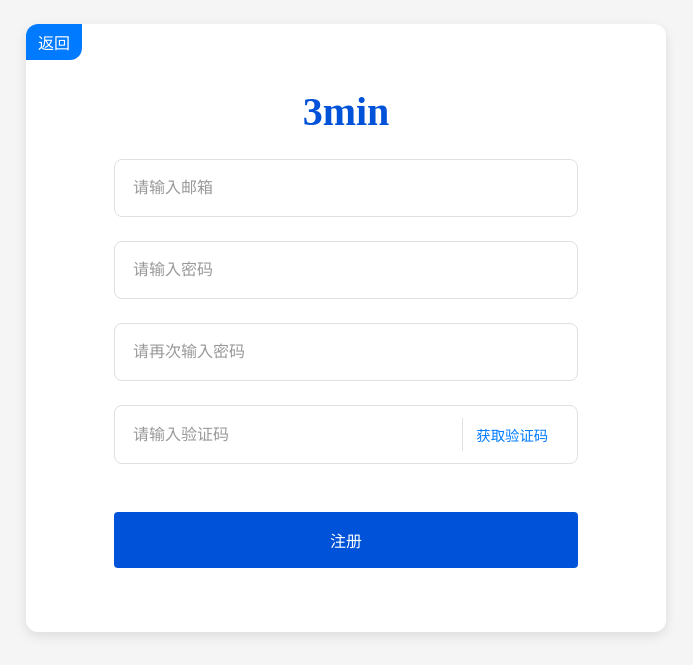
Register Page › 删除确认密码内容时应显示错误提示
The image size is (693, 665).
Type "123456" into the password field with placeholder "请再次输入密码" at point(346, 352), box [131,342,561,362]
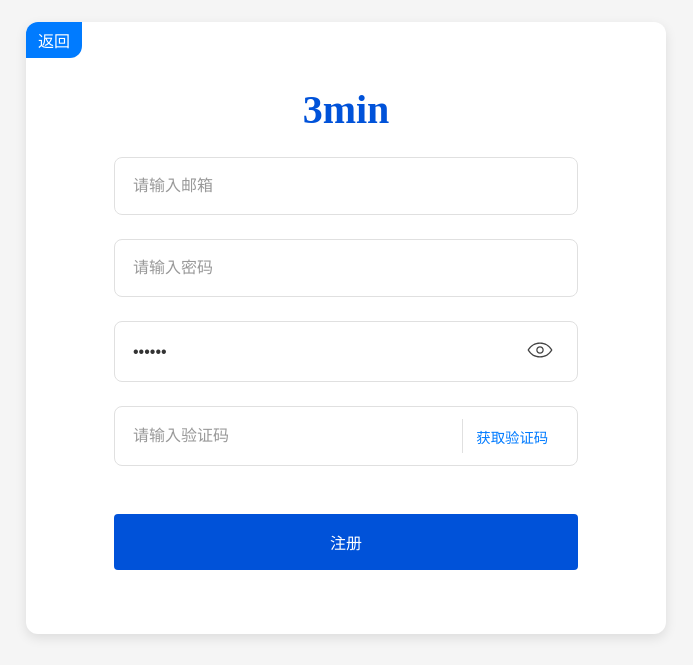
Expected: the text "请确认密码" is not shown
Clear the password field with placeholder "请再次输入密码" at point(325, 352), box [131,342,519,362]
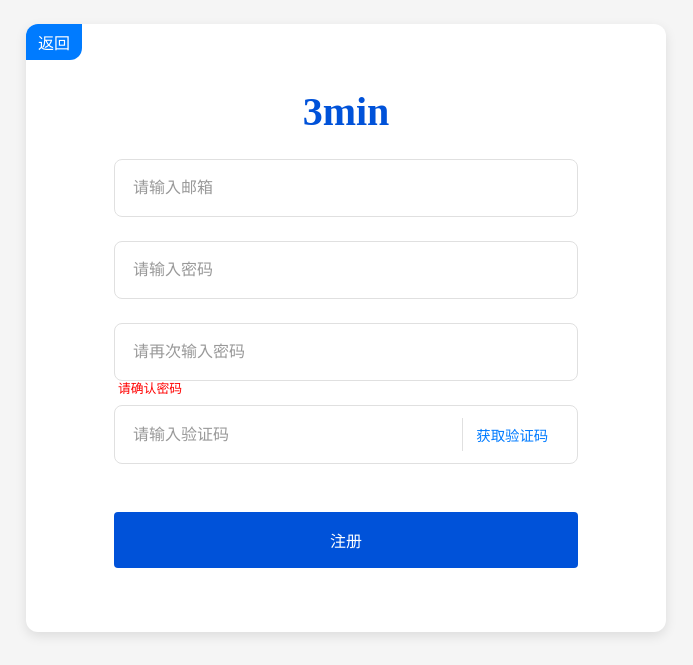
Expected: the text "请确认密码" is shown, [118,382,182,396]
